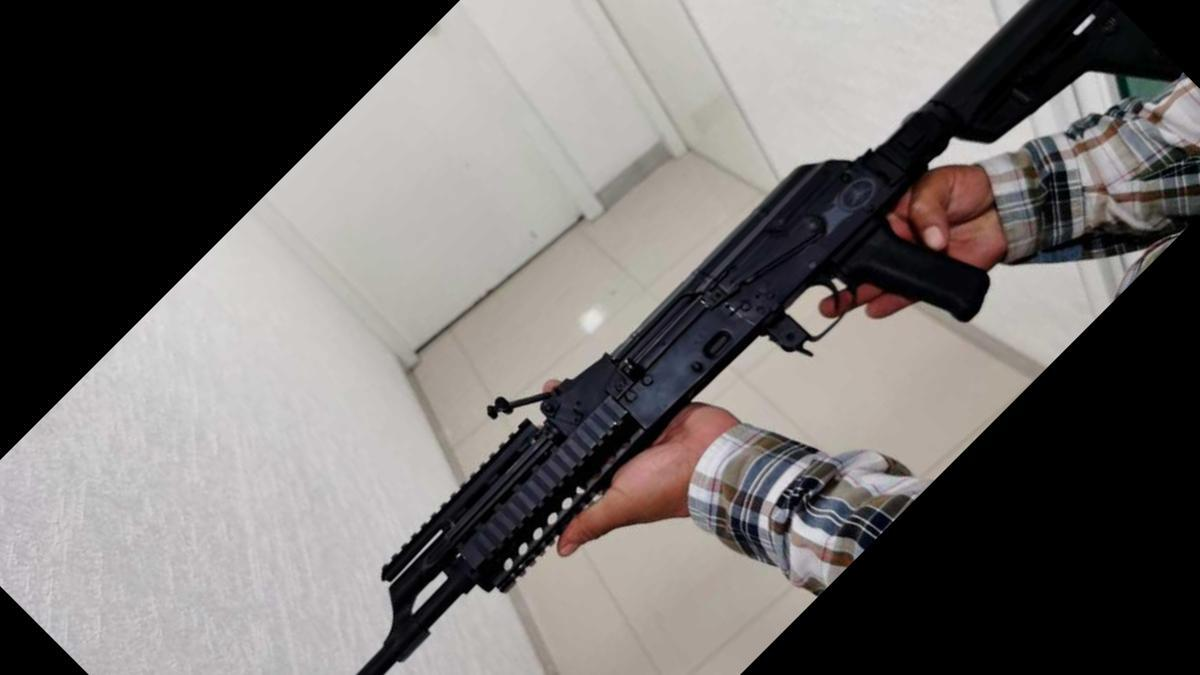larga: (355, 0, 1200, 675)
